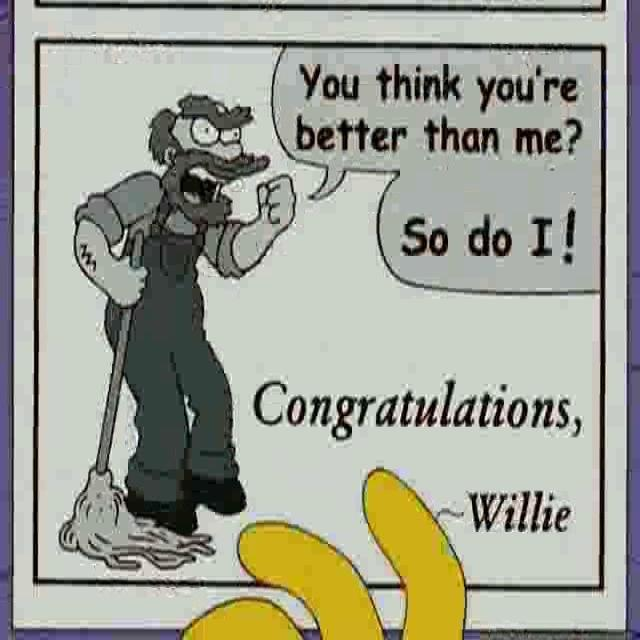Groundskeeper Willie: (146, 90, 272, 233)
